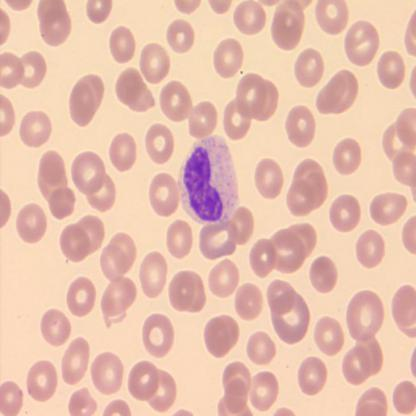Metamyelocyte: (177, 133, 241, 226)
